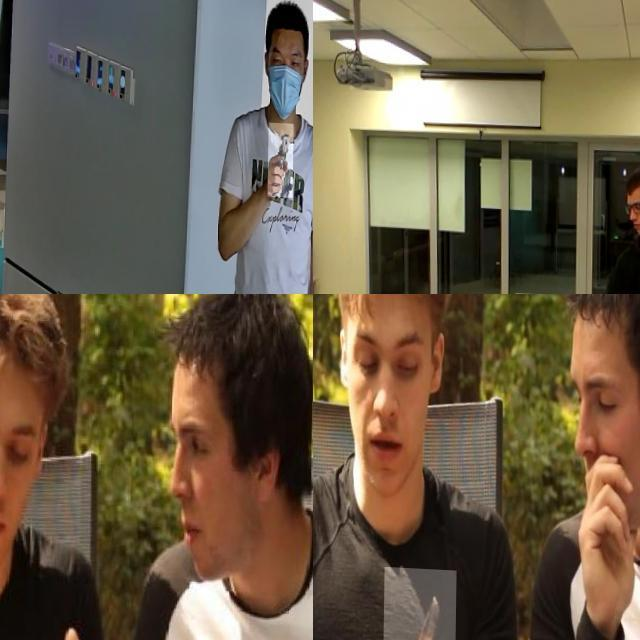-: (383, 564, 457, 640)
gun-knife-thesis - v11 Yolov5 augmented: (268, 120, 294, 194)
